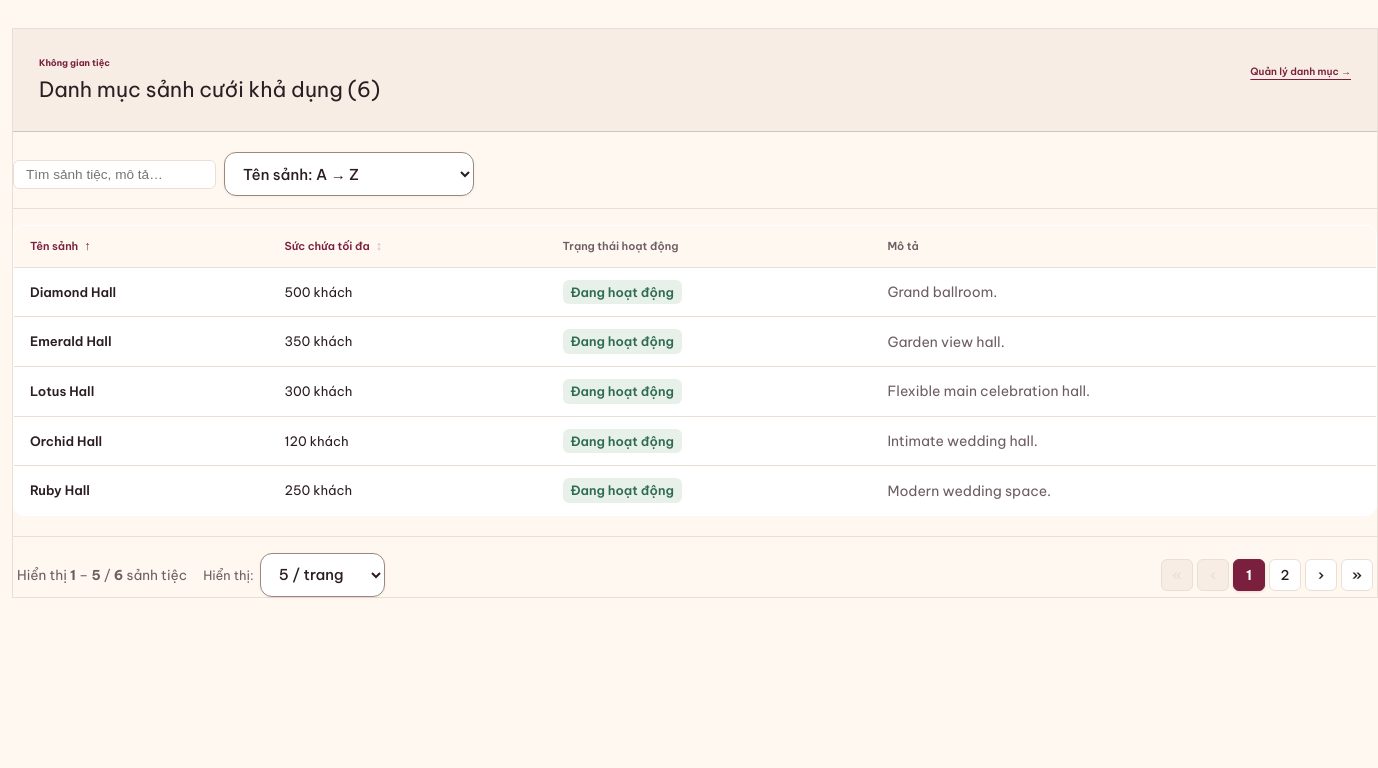
Scenario: DashboardVenueHalls pagination and sorting › filters halls by search query
Step 1. Type "Grand ballroom" into the search field named "Tìm kiếm sảnh cưới" → point(114, 174), box [13, 160, 216, 188]
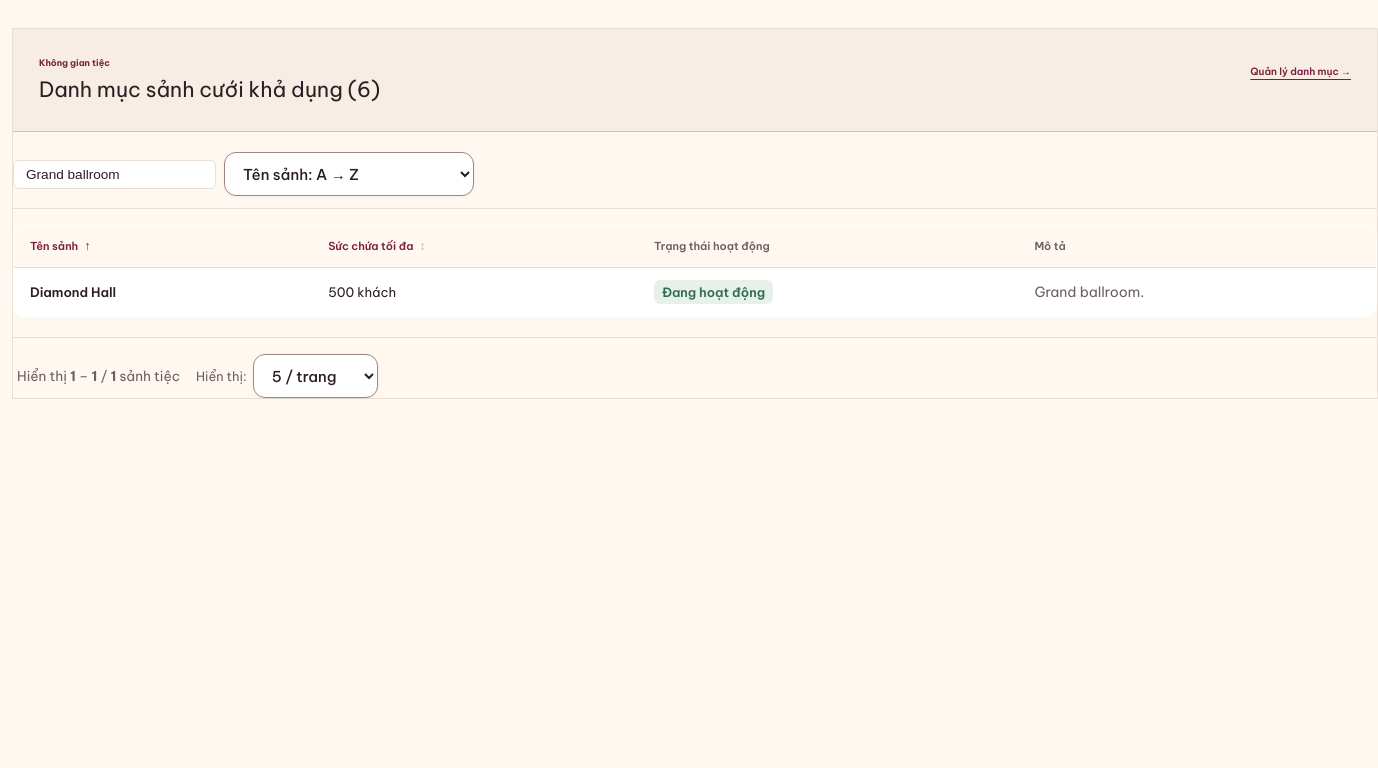
Expected: the text "Diamond Hall" is shown, [14, 267, 312, 317]
Now the text "Lotus Hall" is gone
